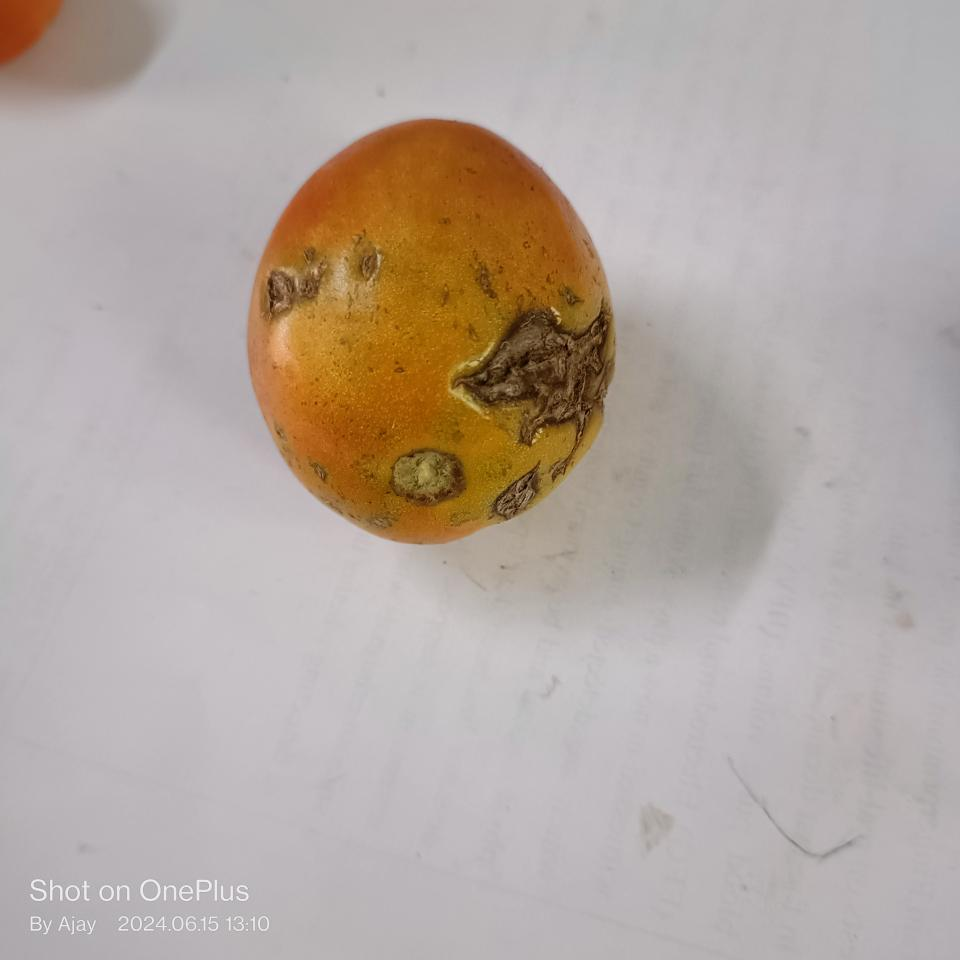Bacterial_Spot: (460, 297, 607, 441), (490, 454, 557, 523), (388, 444, 463, 503), (262, 262, 326, 320), (351, 236, 389, 289)
